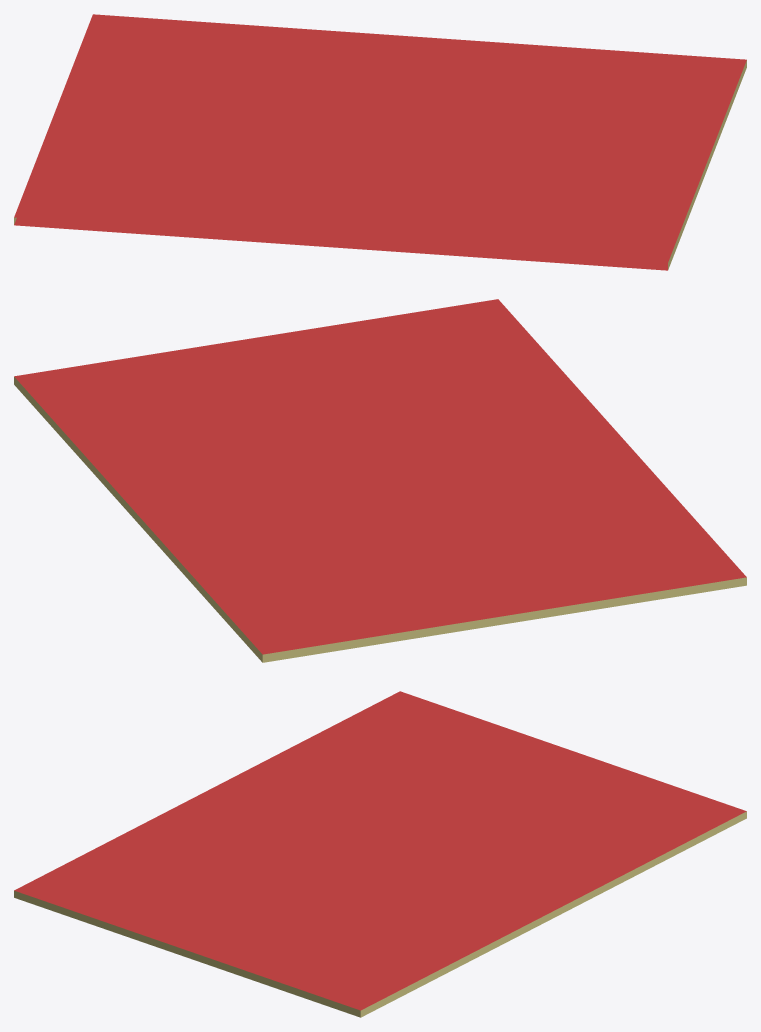
The picture shows the model from 3 angles, top to bottom: view 1: azimuth 30°, elevation 25°; view 2: azimuth 150°, elevation 25°; view 3: azimuth 270°, elevation 25°; orthographic projection. The views are drawn at different scales.
Size of the model in its own units: 9.58 by 9.29 by 0.1.
